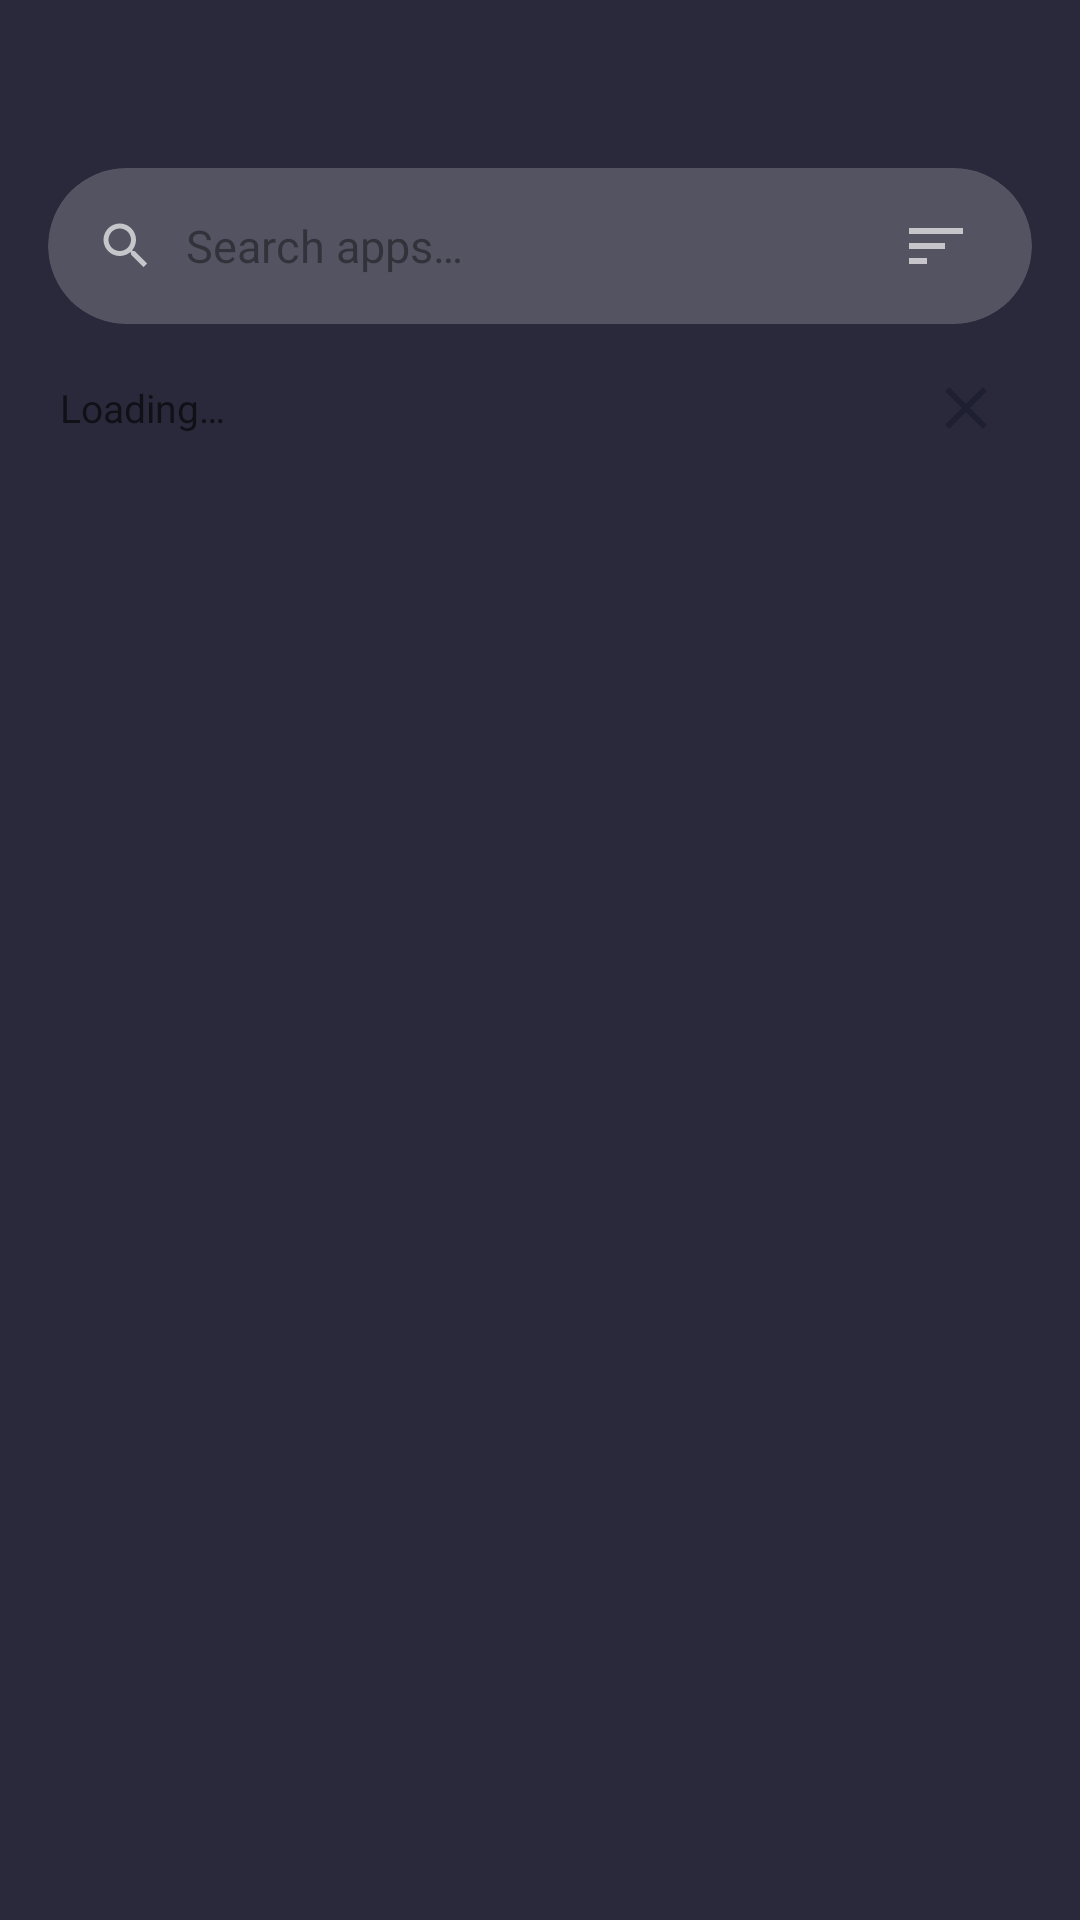

Where icons sit on this 1080px×1920px app screen, as {"left": x1, "top": y1, "right": x2, "bottom": y2}:
Sort: {"left": 909, "top": 228, "right": 963, "bottom": 264}
